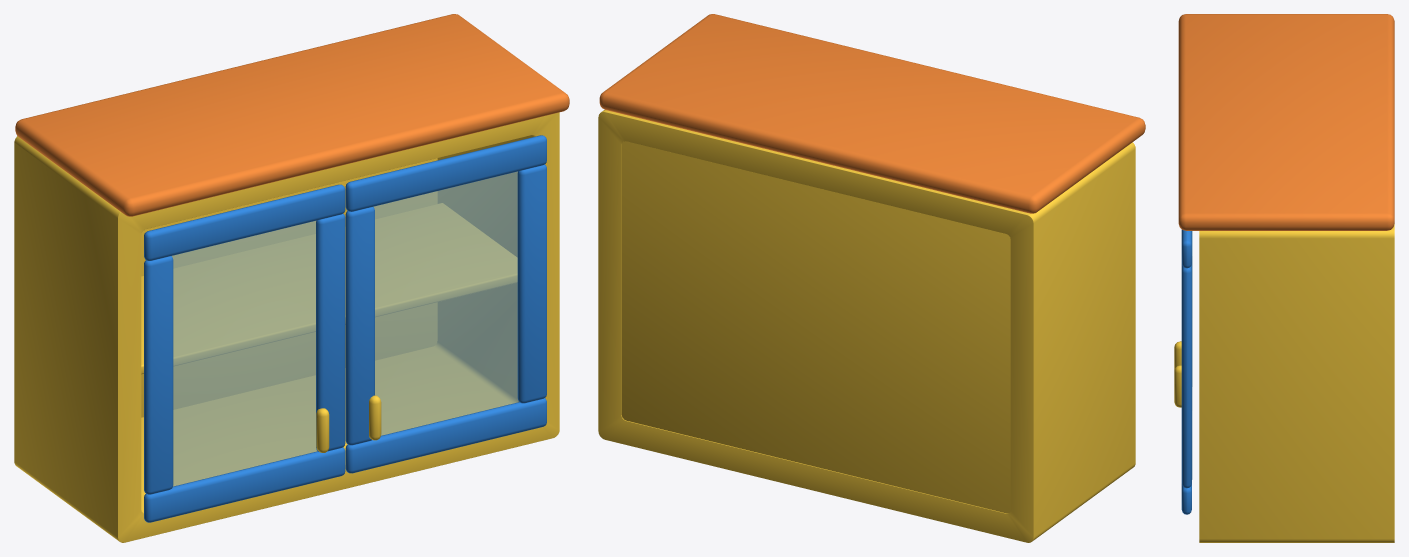
Rendered from armario_parede_vidro_moderna.glb.
3 renders of one model, left to right at view 1: azimuth 30°, elevation 25°; view 2: azimuth 150°, elevation 25°; view 3: azimuth 270°, elevation 25°, orthographic. The views are drawn at different scales.
Parts seen in each view (by area): view 1: armario_parede_vidro_moderna, porta_2, porta_1; view 2: armario_parede_vidro_moderna; view 3: armario_parede_vidro_moderna, porta_2, porta_1.
Part boxes in pixels (x1,y1,x2,y2): armario_parede_vidro_moderna: (14, 14, 569, 542); porta_2: (345, 135, 546, 473); porta_1: (144, 184, 345, 522); armario_parede_vidro_moderna: (598, 14, 1145, 542); armario_parede_vidro_moderna: (1178, 14, 1394, 542); porta_2: (1174, 229, 1192, 514); porta_1: (1174, 231, 1192, 386).
Bounding box in the file's own units: 0.798 × 0.6 × 0.363.
2 materials, 1 textured.
